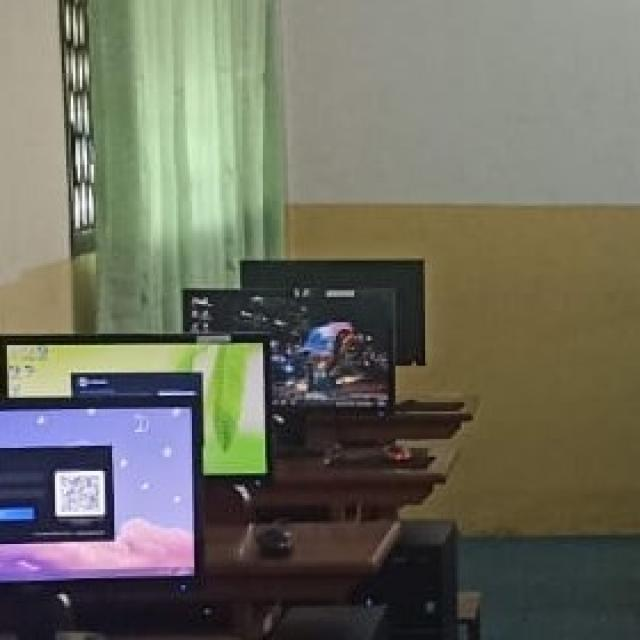offscreen: (241, 260, 424, 364)
onscreen: (0, 391, 196, 582), (8, 342, 268, 474), (184, 291, 393, 411)
